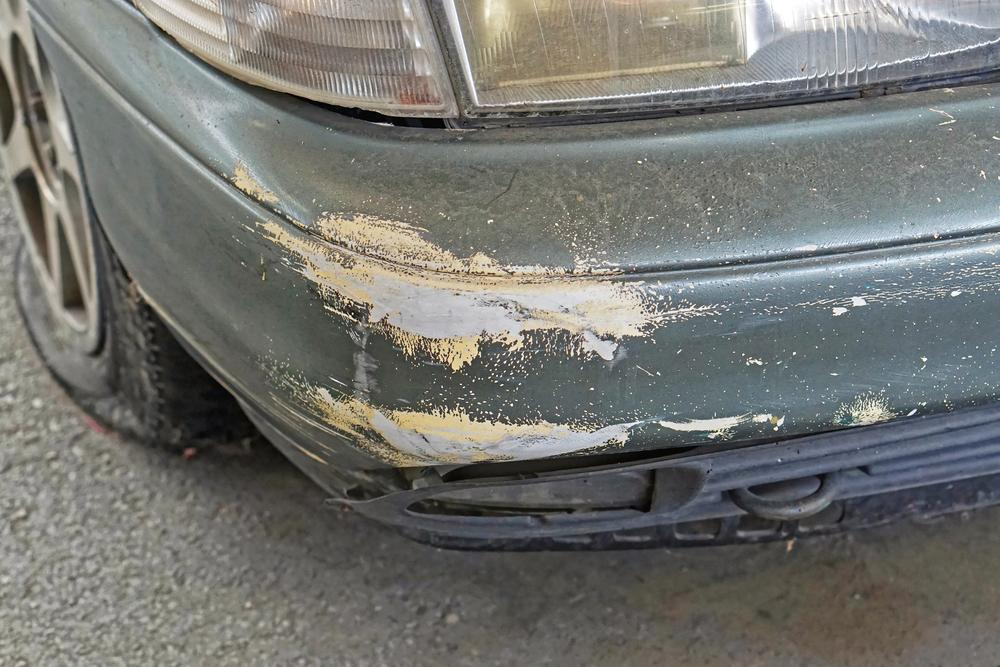scratch: (228, 170, 901, 464)
tire flat: (0, 0, 217, 448)
